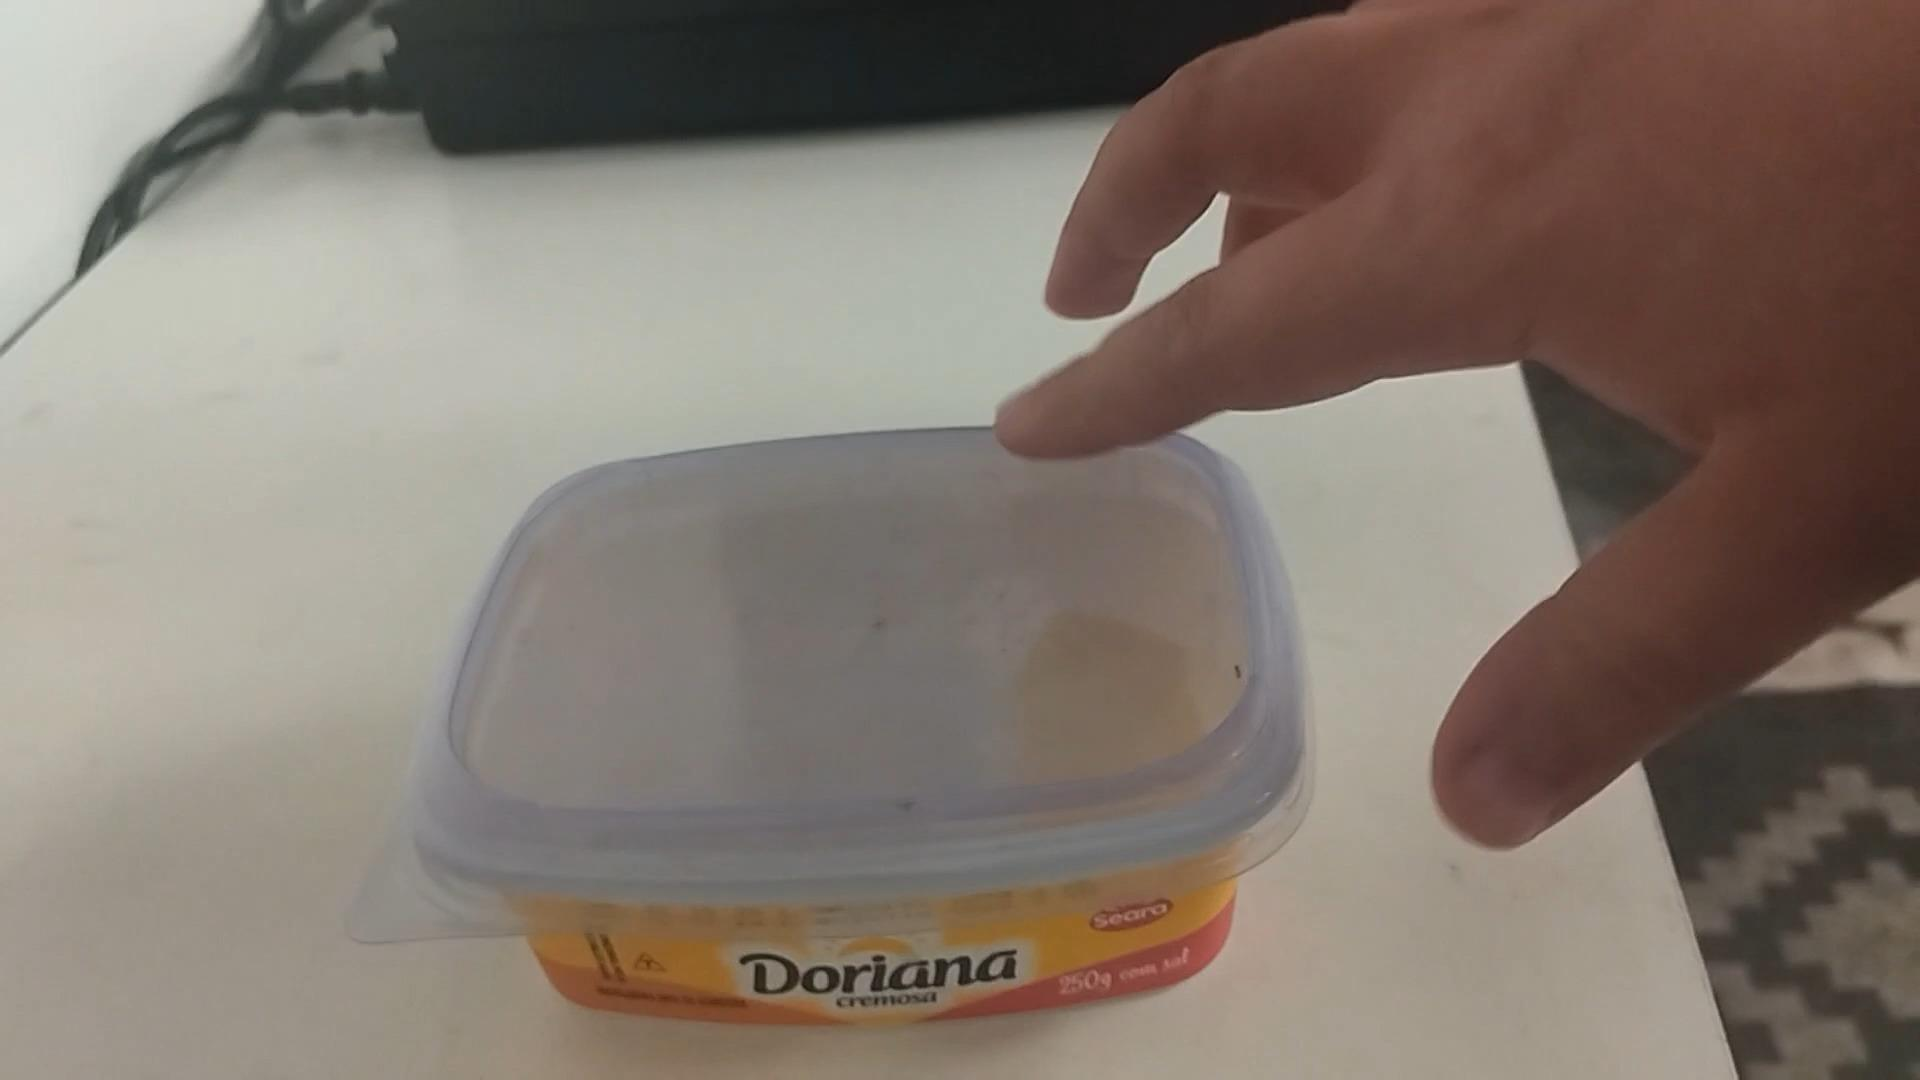butter: (372, 434, 1303, 1026)
